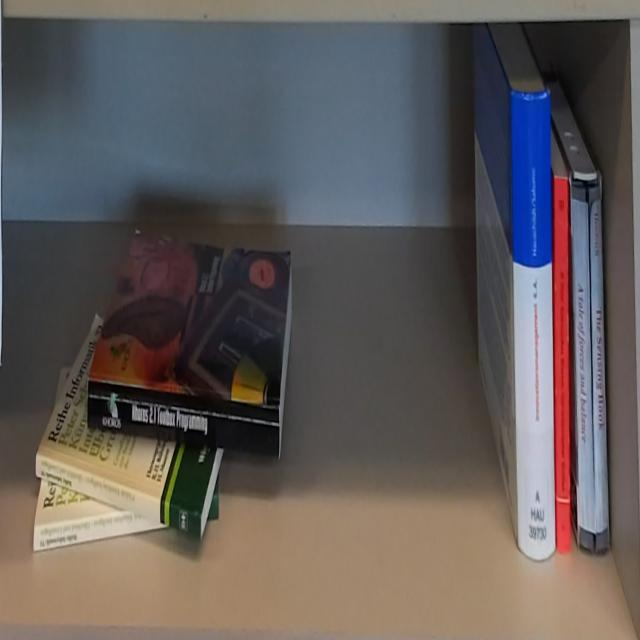Book Spine: (512, 93, 556, 562), (88, 377, 282, 462), (36, 454, 203, 538), (571, 187, 595, 555), (588, 184, 609, 556), (553, 175, 571, 555), (30, 510, 166, 554)
